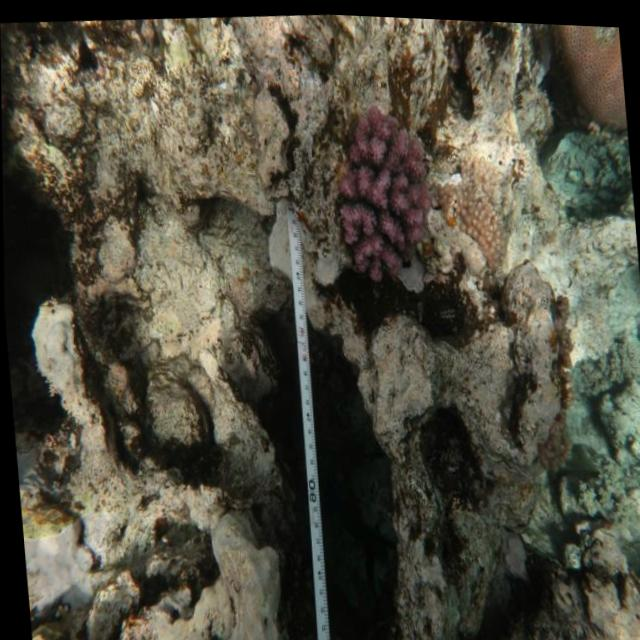Healthy Coral: (311, 95, 439, 297), (536, 19, 627, 136)
